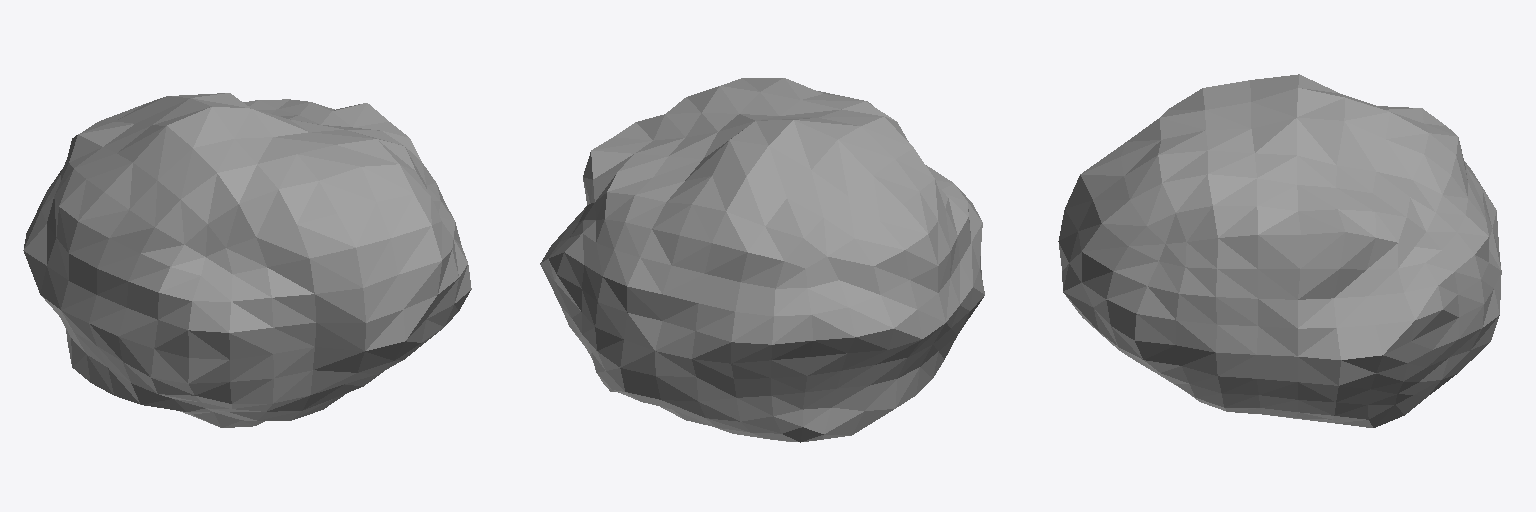
File: Rock.obj
3 views of the same model, side by side, from view 1: azimuth 30°, elevation 25°; view 2: azimuth 150°, elevation 25°; view 3: azimuth 270°, elevation 25° (orthographic).
Visible parts, largest first — view 1: Cube_Cube.005; view 2: Cube_Cube.005; view 3: Cube_Cube.005.
Part boxes in pixels (left/top/right/bottom): Cube_Cube.005: left=23, top=93, right=471, bottom=427; Cube_Cube.005: left=540, top=78, right=984, bottom=442; Cube_Cube.005: left=1058, top=74, right=1501, bottom=427.
Bounding box in the file's own units: 1.94 × 1.5 × 1.99.